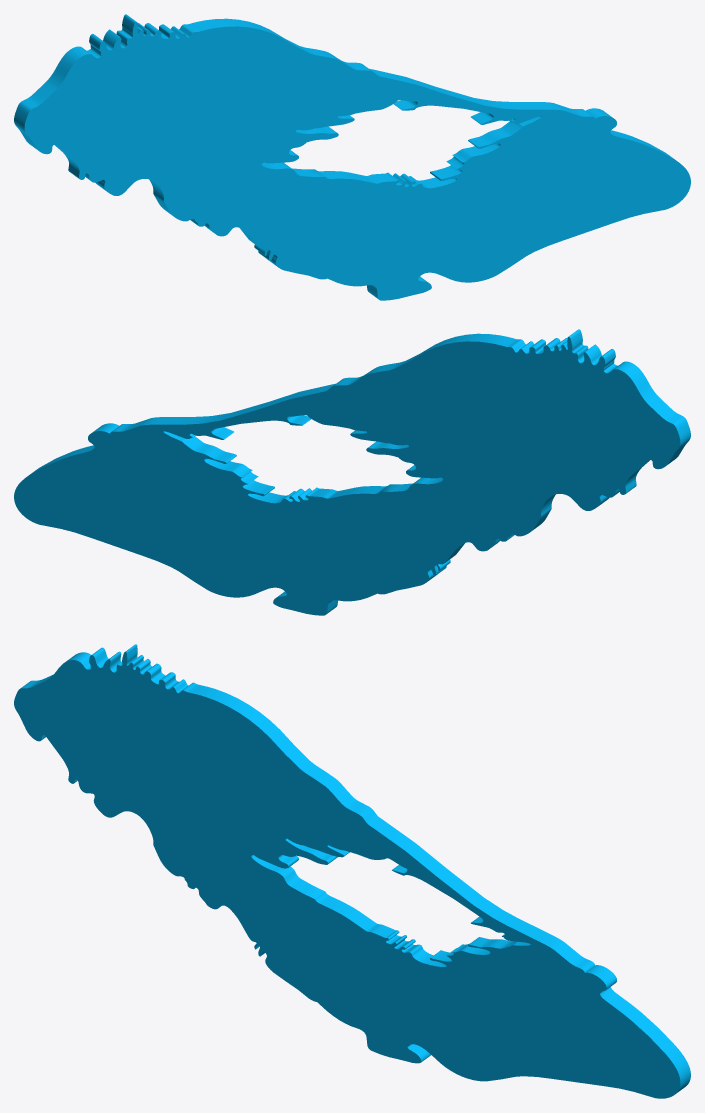
3 views of the same model, one above another, from view 1: azimuth 30°, elevation 25°; view 2: azimuth 150°, elevation 25°; view 3: azimuth 330°, elevation 25° (orthographic).
Visible parts, largest first — view 1: 캡 1, 36; view 2: 캡 2, 36; view 3: 캡 1, 36.
Boxes of the visible parts, x1,y1,x2,y2 form: 캡 1: (24,22,690,300); 36: (14,14,674,299); 캡 2: (14,337,680,615); 36: (30,329,690,614); 캡 1: (14,652,680,1098); 36: (21,644,690,1093).
Bounding box in the file's own units: 22 × 10.83 × 0.6.
